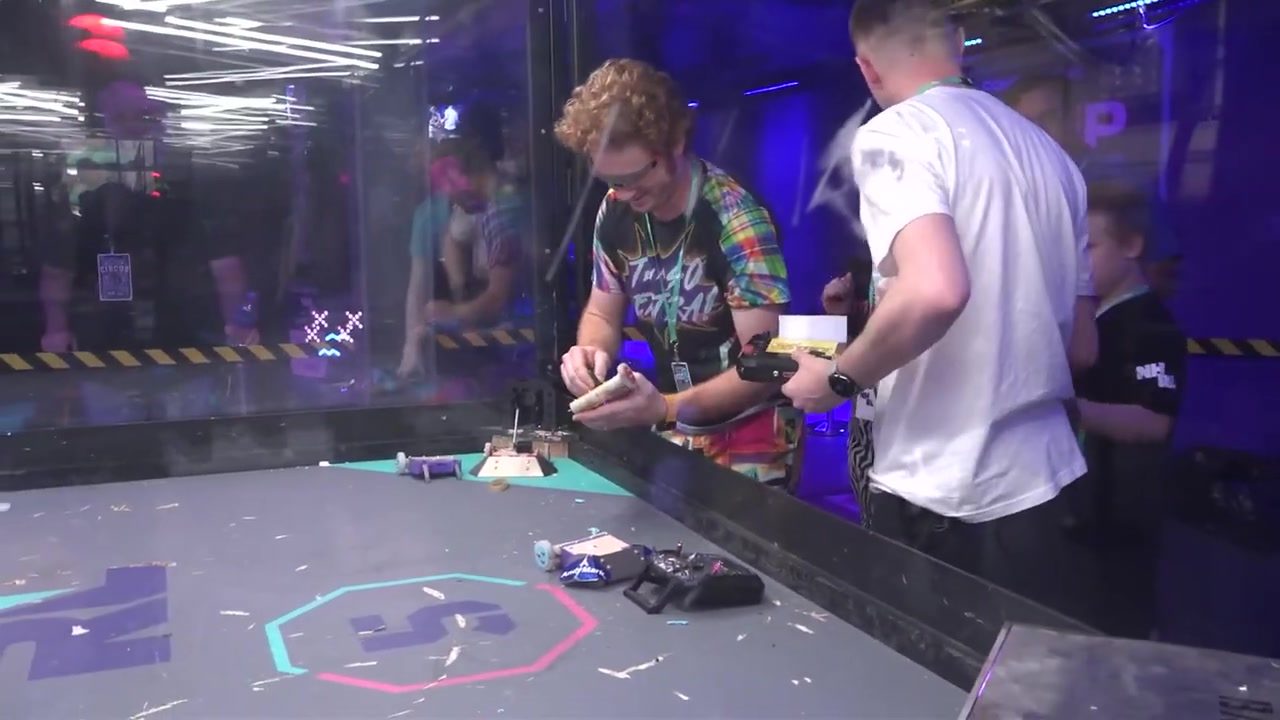combatbot: (534, 527, 645, 589), (469, 409, 557, 482), (396, 452, 461, 484)
housebot: (952, 621, 1279, 719)
